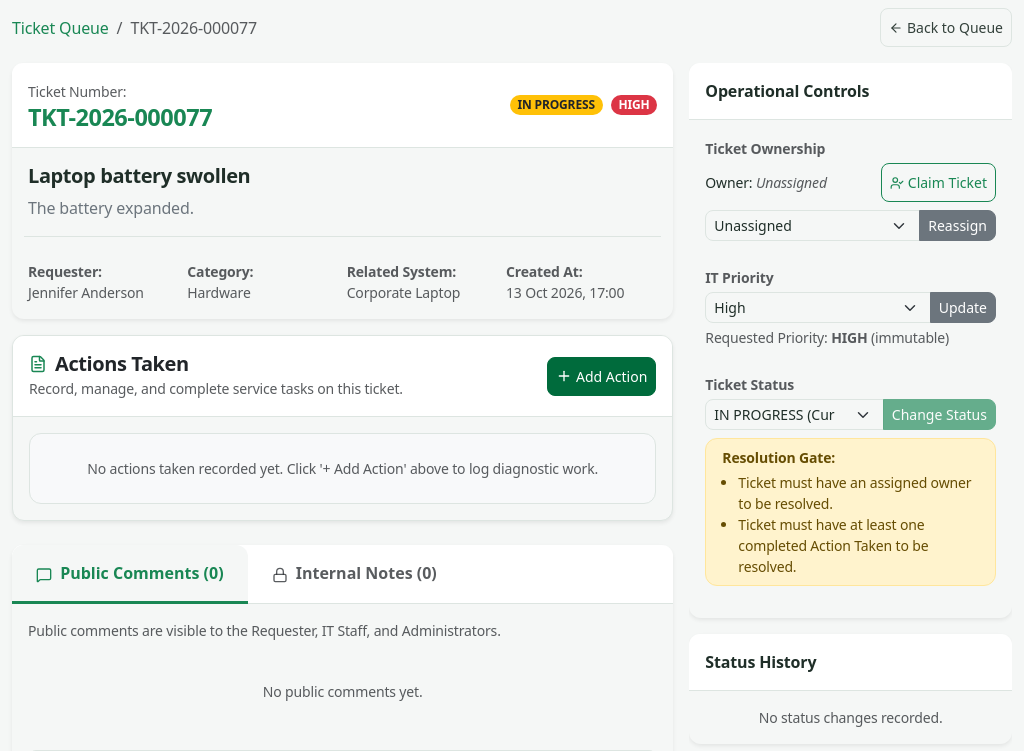
Scenario: TicketWorkflow Component Tests (Lab 4) › UI-07: Resolution Gate Feedback in Staff Ticket Detail (AC-07, FR-06) › displays resolution gate missing requirements banner and checks reasons on RESOLVED selection
Expected: the text "Resolution Gate:" is shown, [722,448,835,467]
Expected: the list item "Ticket must have an assigned owner to be resolved." is shown, [738,472,979,514]
// Select RESOLVED in status dropdown
Select "RESOLVED" in the dropdown labelled "Ticket Status": (795, 414) [705,399,884,430]
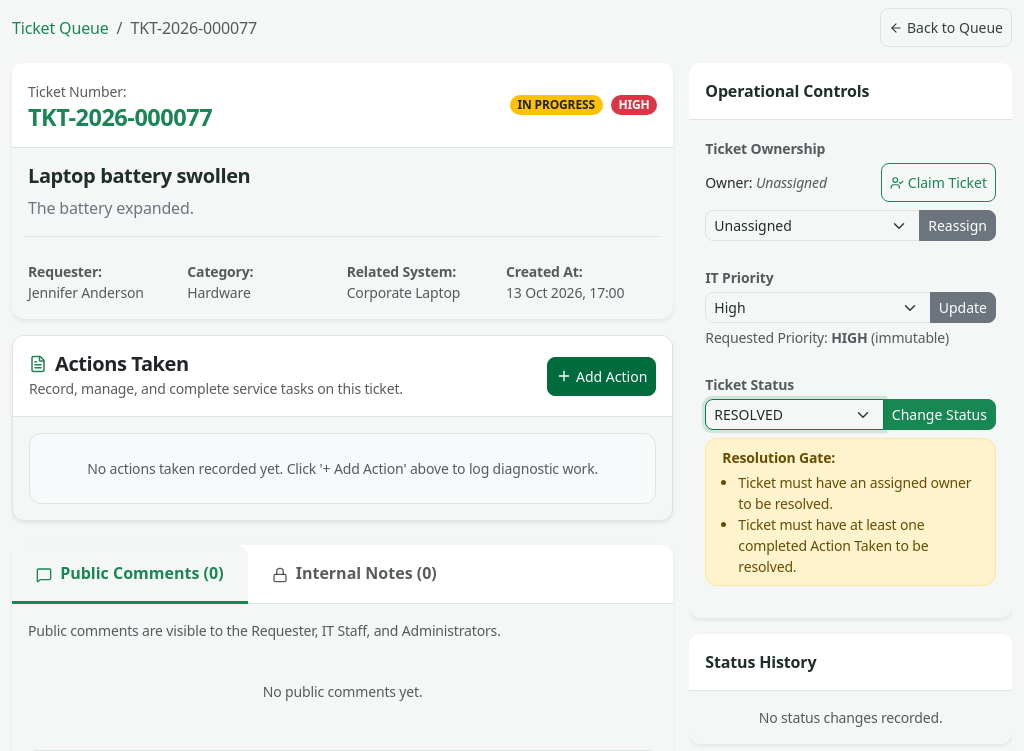
// Click Change Status button
Click the button "Change Status": (939, 414) [883,399,996,430]
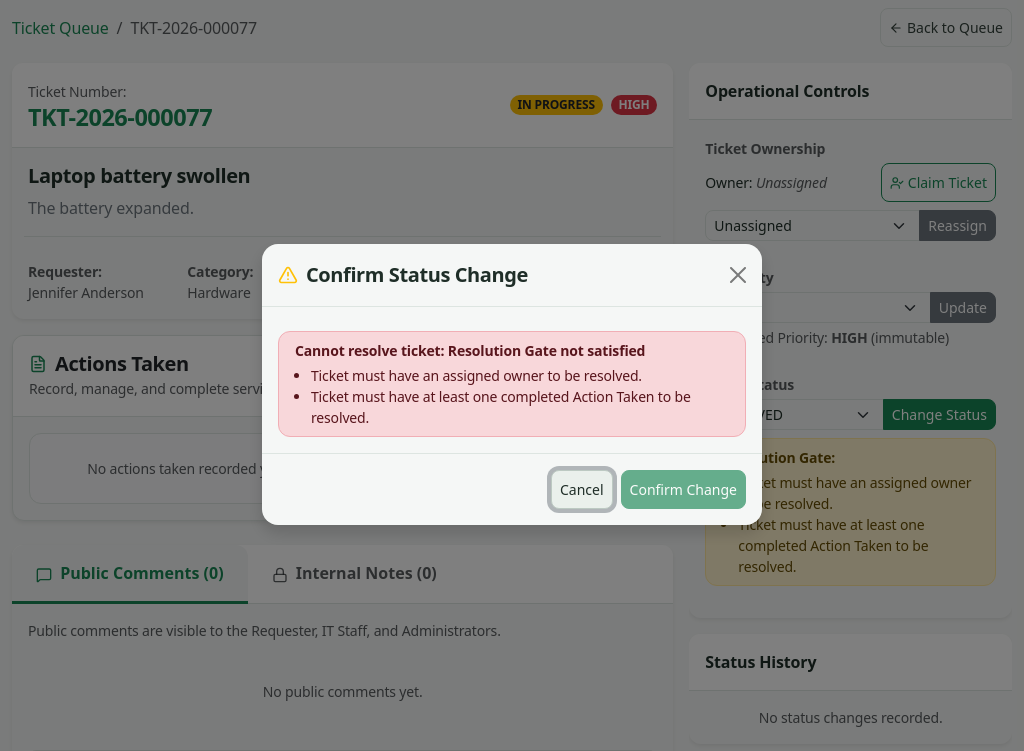
Now the text "Cannot resolve ticket: Resolution Gate not satisfied" is shown, box [295,340,645,360]
